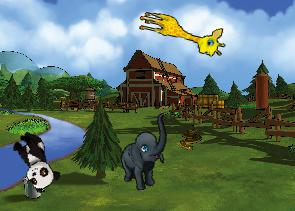elephant: (110, 112, 182, 194)
giraffe: (134, 9, 228, 59)
panda: (6, 127, 63, 194)
